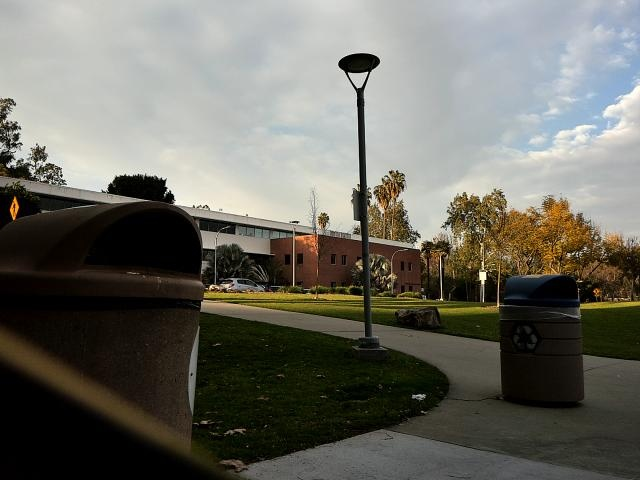trashcan: (1, 189, 219, 455), (496, 264, 592, 416)
